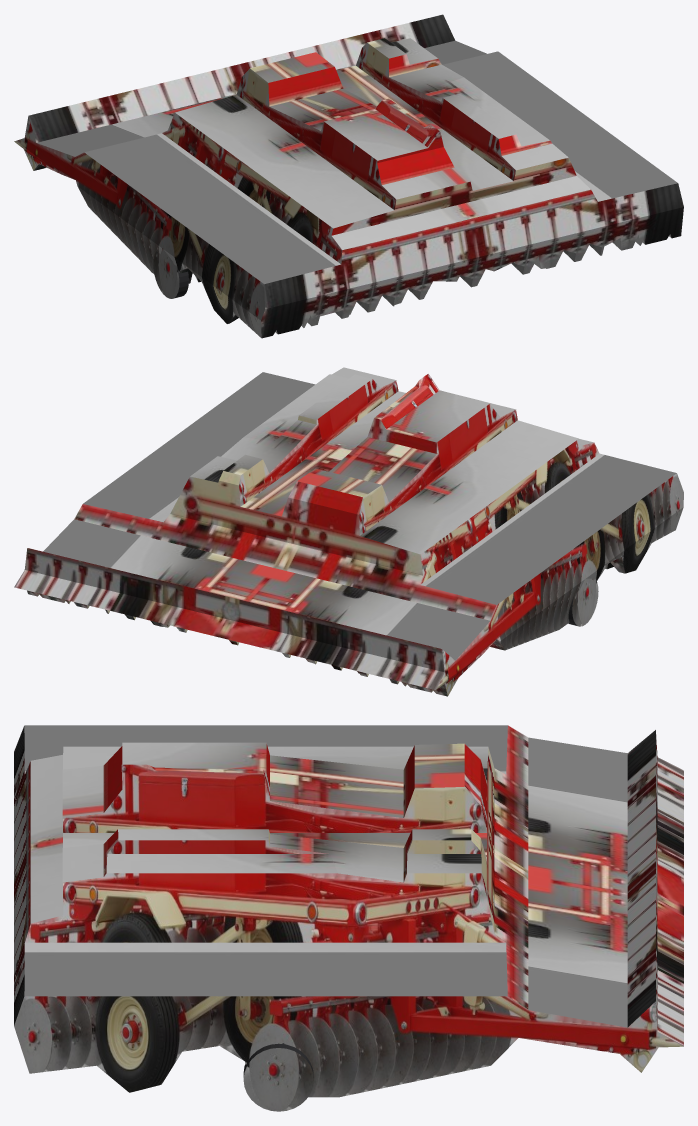
The model's file is plough_disc.glb.
3 views of the same model, one above another, from view 1: azimuth 30°, elevation 25°; view 2: azimuth 150°, elevation 25°; view 3: azimuth 270°, elevation 25° (orthographic). The views are drawn at different scales.
Visible parts, largest first — view 1: plough_disc, wheel_FL; view 2: plough_disc, wheel_FL; view 3: plough_disc, wheel_FR.
Part boxes in pixels (x1,y1,x2,y2): plough_disc: (14,14,683,338); wheel_FL: (153,249,188,298); plough_disc: (14,367,683,696); wheel_FL: (568,578,598,626); plough_disc: (14,725,683,1097); wheel_FR: (243,1043,313,1111).
Bounding box in the file's own units: 3.96 × 1.38 × 4.
Materials: 3 (1 with a texture image).
